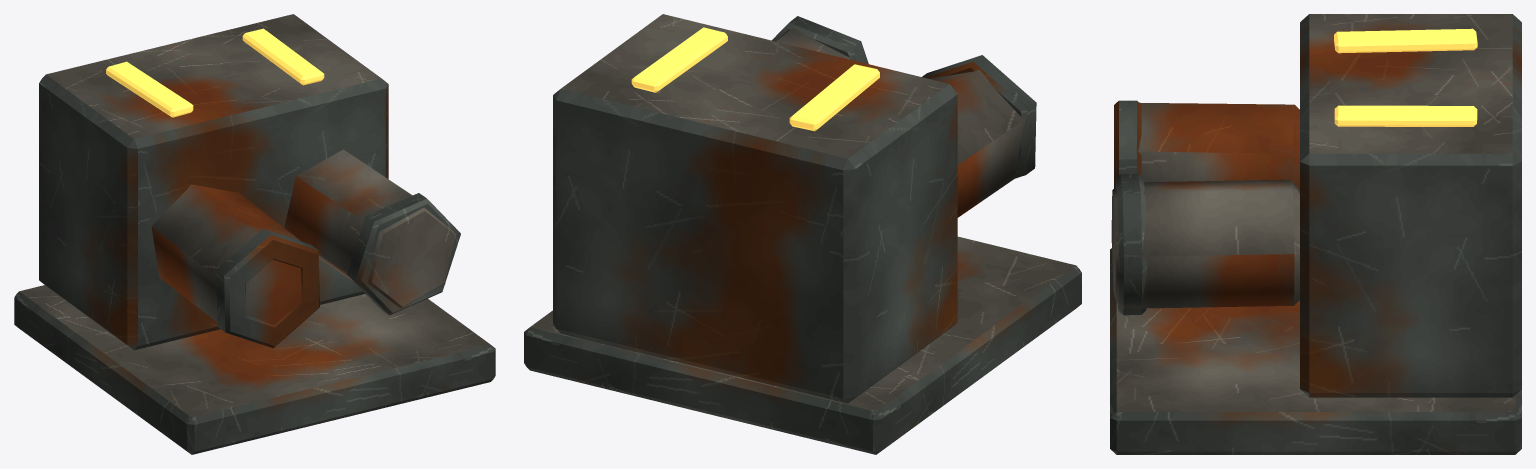
Rendered from R4X_DoubleShotPassive_LOD1.glb.
3 renders of one model, left to right at view 1: azimuth 30°, elevation 25°; view 2: azimuth 150°, elevation 25°; view 3: azimuth 270°, elevation 25°, orthographic. The views are drawn at different scales.
Parts seen in each view (by area): view 1: R4X_DoubleShotPassive_LOD1; view 2: R4X_DoubleShotPassive_LOD1; view 3: R4X_DoubleShotPassive_LOD1.
Boxes of the visible parts, x1,y1,x2,y2 form: R4X_DoubleShotPassive_LOD1: (14,14,495,454); R4X_DoubleShotPassive_LOD1: (524,14,1081,454); R4X_DoubleShotPassive_LOD1: (1110,14,1521,454).
Size of the model in its own units: 0.52 by 0.415 by 0.52.
Materials: 4 (3 with a texture image).
